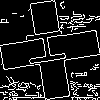H: (25, 25, 76, 68)
